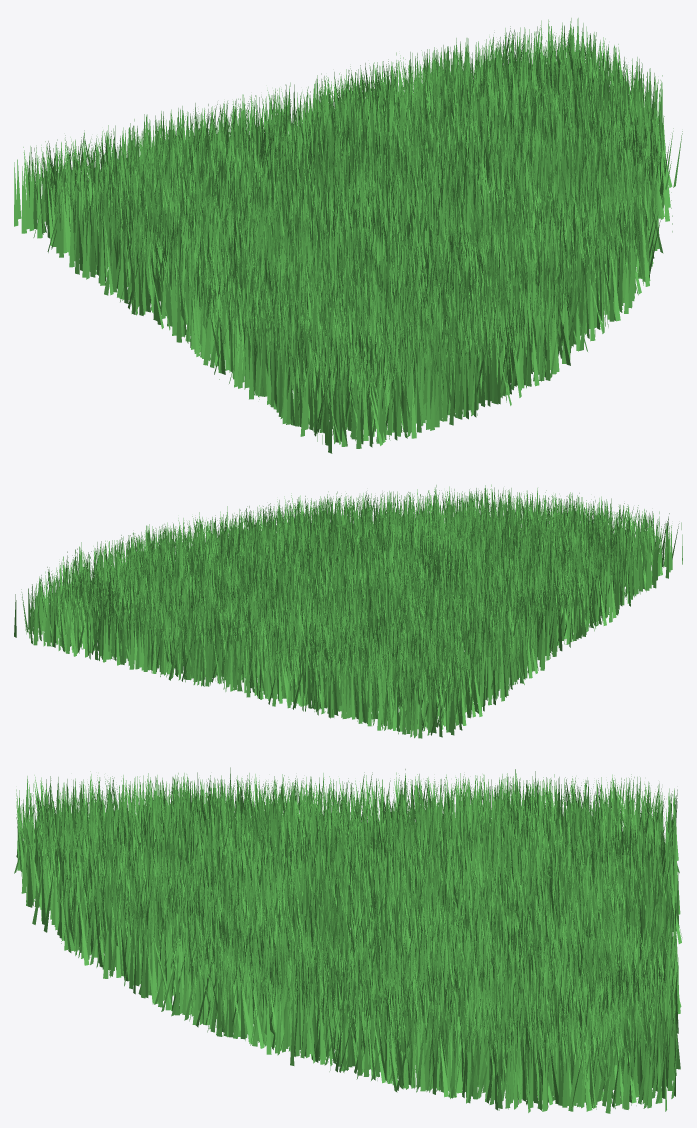
File: [foliage] Grass quater circle shape.fbx
3 views of the same model, one above another, from view 1: azimuth 30°, elevation 25°; view 2: azimuth 150°, elevation 25°; view 3: azimuth 270°, elevation 25° (orthographic). The views are drawn at different scales.
Visible parts, largest first — view 1: Grass quater circle shape_LOD0; view 2: Grass quater circle shape_LOD0; view 3: Grass quater circle shape_LOD0.
Part boxes in pixels (<box>): Grass quater circle shape_LOD0: <box>14,18,682,453</box>; Grass quater circle shape_LOD0: <box>14,484,682,738</box>; Grass quater circle shape_LOD0: <box>14,767,682,1113</box>.
Size of what is drawn, in the model's own units: 199 by 21.58 by 199.
